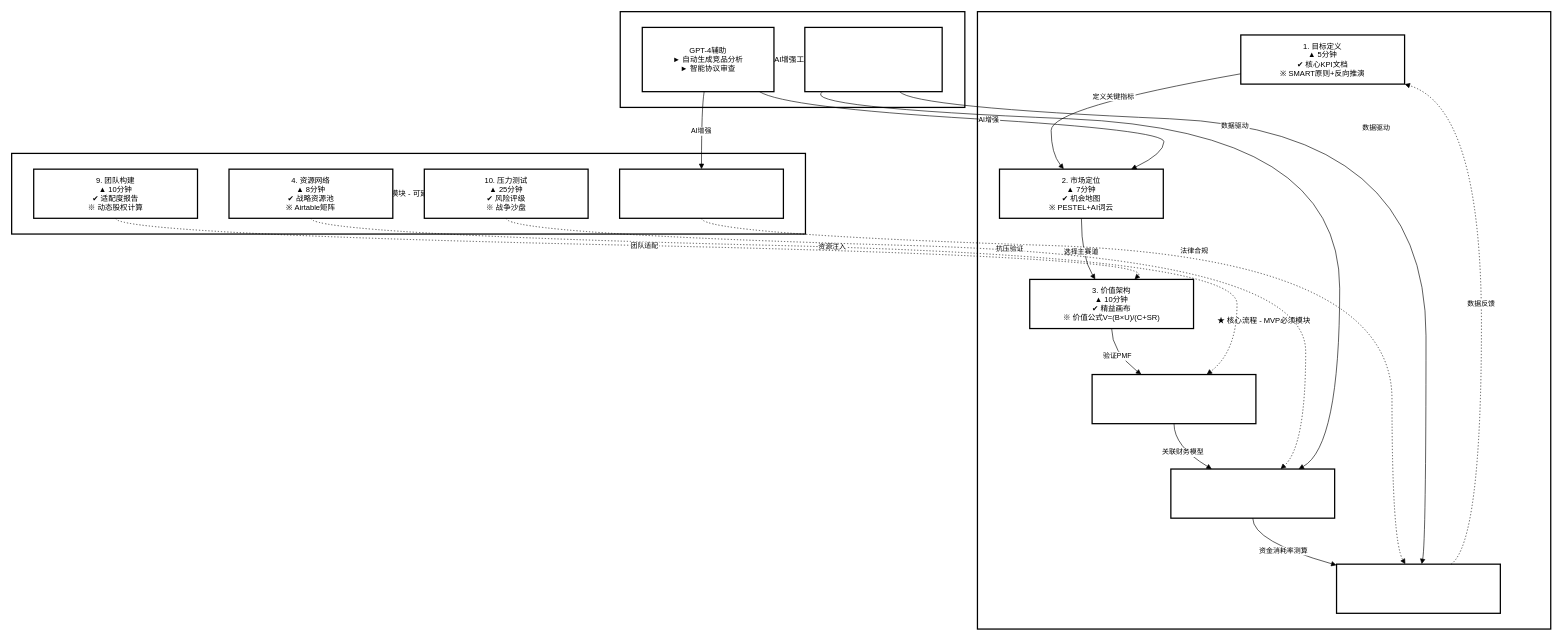
Image size: 1562x640. Some labels were removed from this diagram. Here are the shapes that lost their labels. From the top down, the centre of each, then its label:
At (x=873, y=59): "数据分析栈 ► Snowflake实时看板 ► Amplitude旅程追踪".
At (x=701, y=193): "8. 法律架构 ▲ 15分钟 ✔ 风险清单 ※ Ironclad审查".
At (x=1173, y=399): "5. 执行路径 ▲ 12分钟 ✔ 敏捷路线图 ※ OKR+熔断机制".
At (x=1252, y=493): "6. 财务推演 ▲ 8分钟 ✔ 财务模型v1 ※ LTV/CAC平衡".
At (x=1418, y=588): "7. MVP验证 ▲ 5分钟 ✔ 测试计划 ※ 5种迭代预案".
